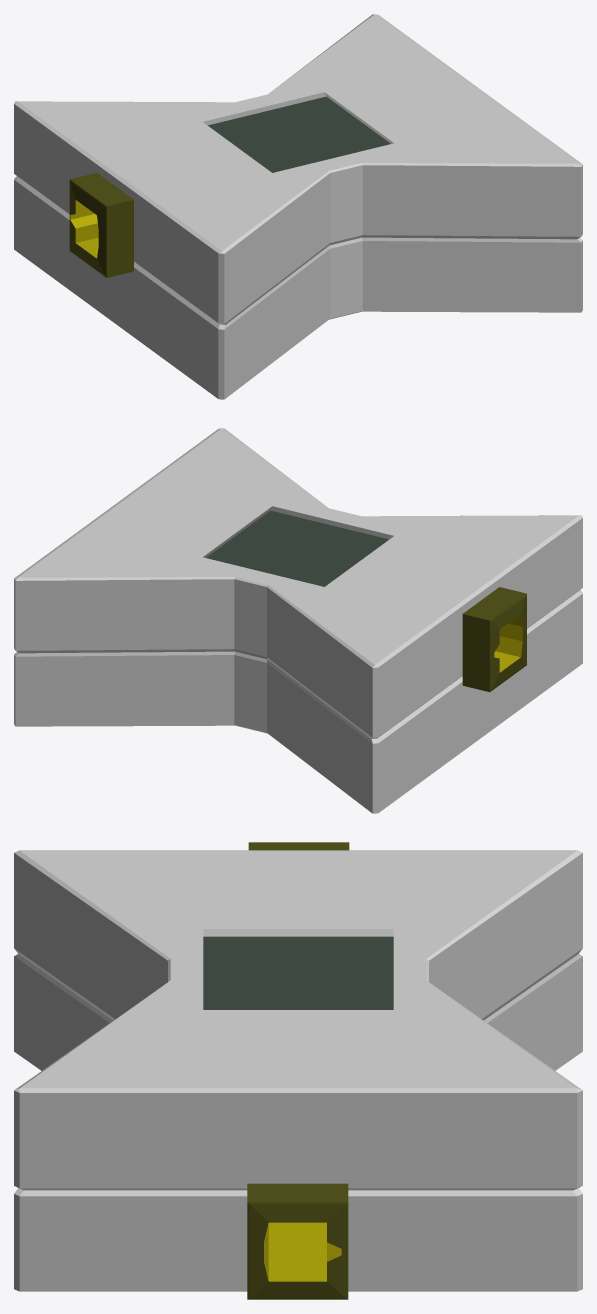
Rendered from SM_Delay.fbx.
3 renders of one model, top to bottom at view 1: azimuth 30°, elevation 25°; view 2: azimuth 150°, elevation 25°; view 3: azimuth 270°, elevation 25°, orthographic. The views are drawn at different scales.
Parts seen in each view (by area): view 1: Cube; view 2: Cube; view 3: Cube.
Boxes of the visible parts, x1,y1,x2,y2 form: Cube: (14,14,582,399); Cube: (14,428,582,813); Cube: (14,842,582,1299).
Size of the model in its own units: 10.23 by 3.43 by 8.72.
